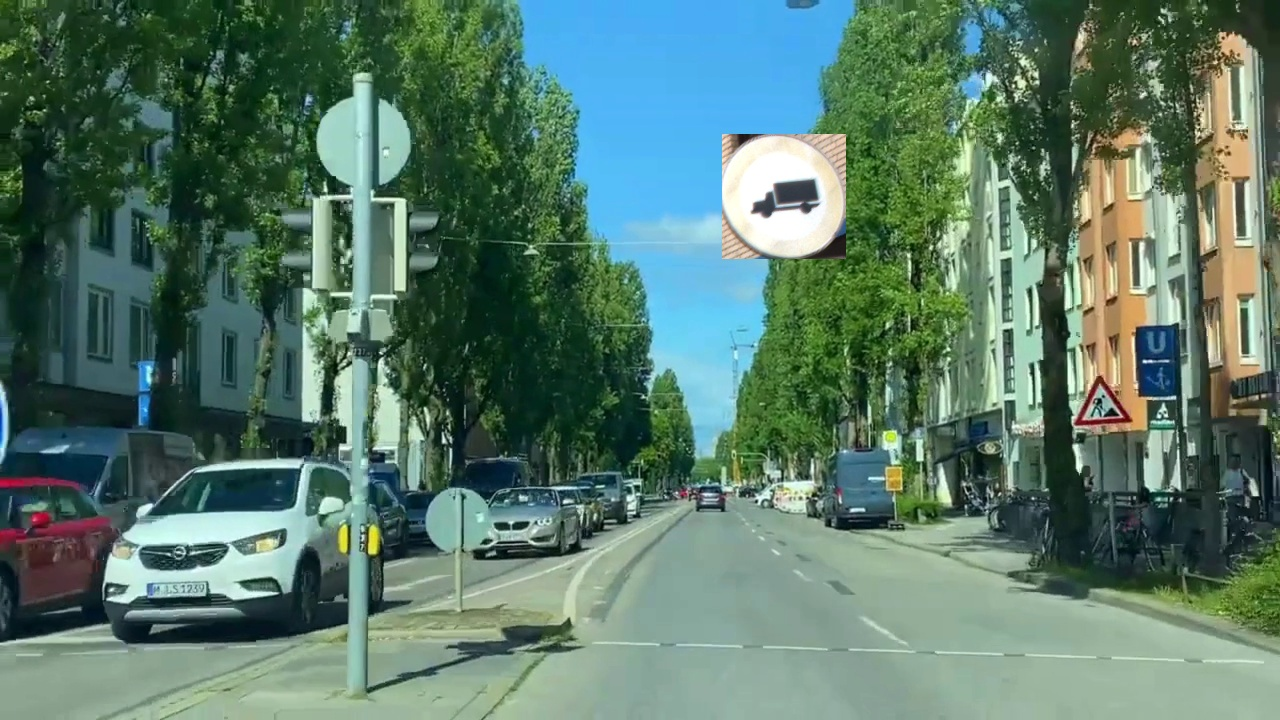Veh >3.5t prohib: (722, 134, 846, 259)
